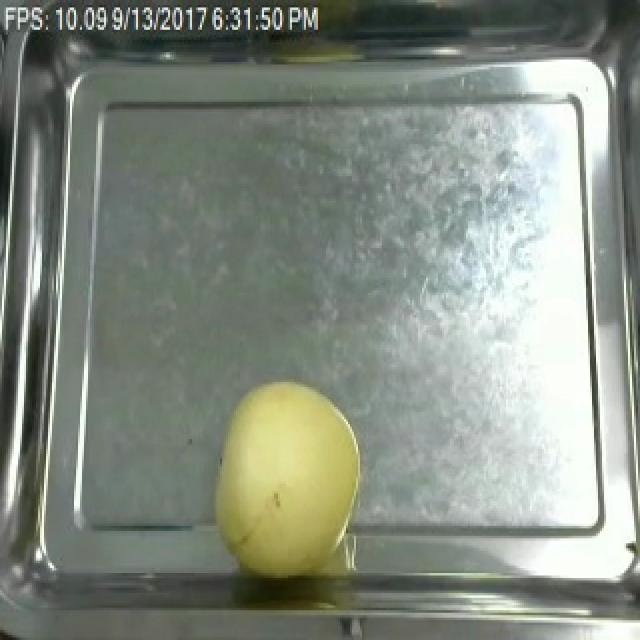Fruit: (206, 370, 368, 583)
